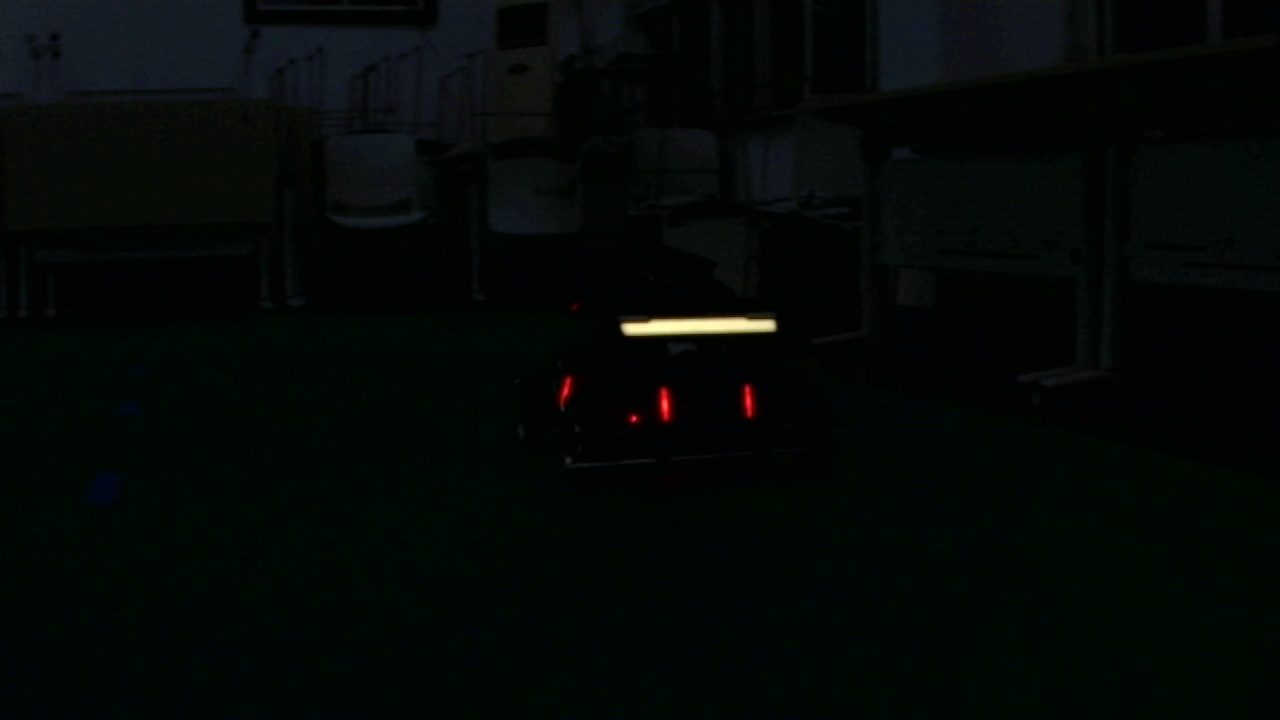lamp: (657, 386, 674, 420), (742, 382, 756, 420)
pair1: (660, 388, 753, 419)
